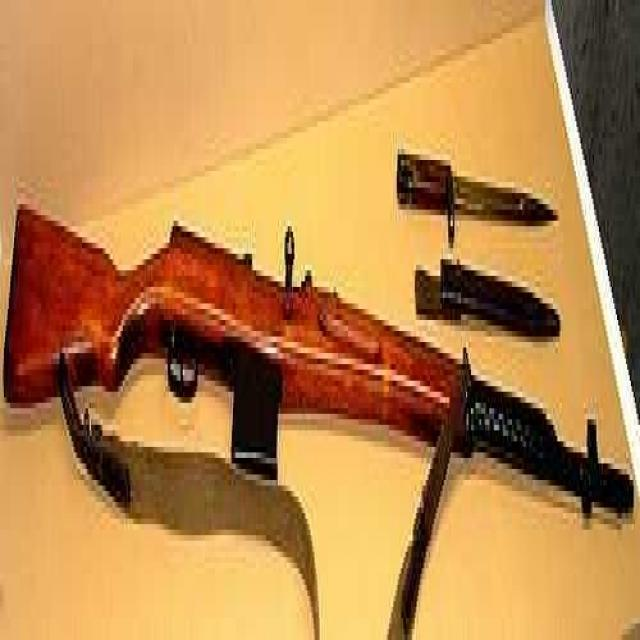weapon: (6, 165, 638, 640)
